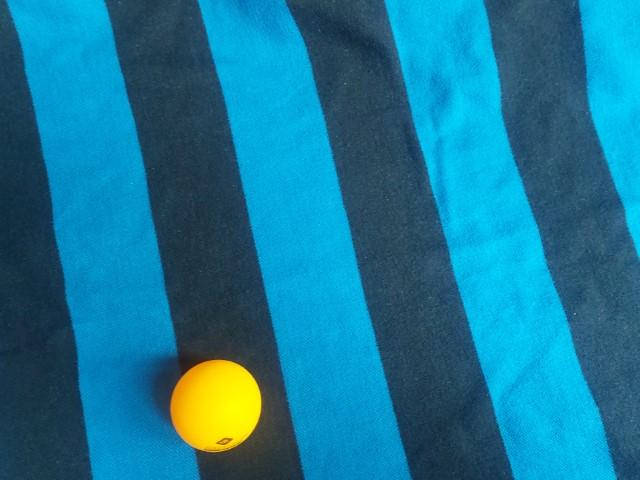oball: (369, 24, 477, 127)
